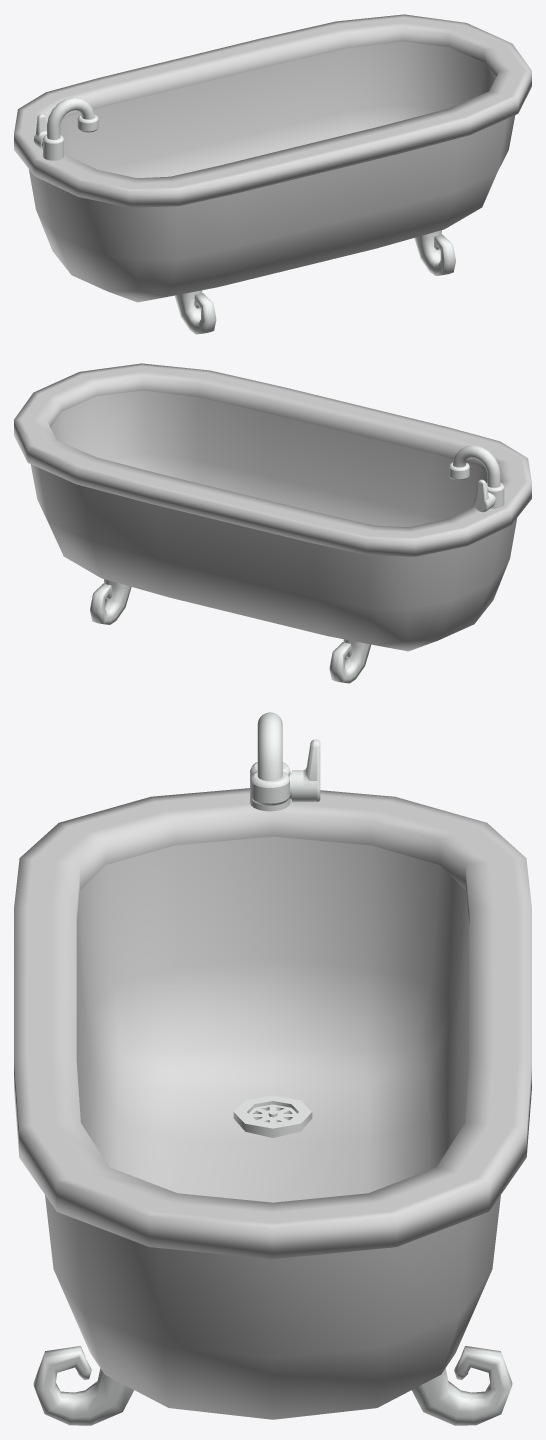
File: Bath_tub.glb
3 renders of one model, top to bottom at view 1: azimuth 30°, elevation 25°; view 2: azimuth 150°, elevation 25°; view 3: azimuth 270°, elevation 25°, orthographic. The views are drawn at different scales.
Parts seen in each view (by area): view 1: Bath; view 2: Bath; view 3: Bath.
Boxes of the visible parts, x1,y1,x2,y2 form: Bath: (14,14,531,334); Bath: (14,363,531,683); Bath: (14,712,531,1425).
Bounding box in the file's own units: 1.53 × 0.6586 × 0.7557.
2 materials, 1 textured.
